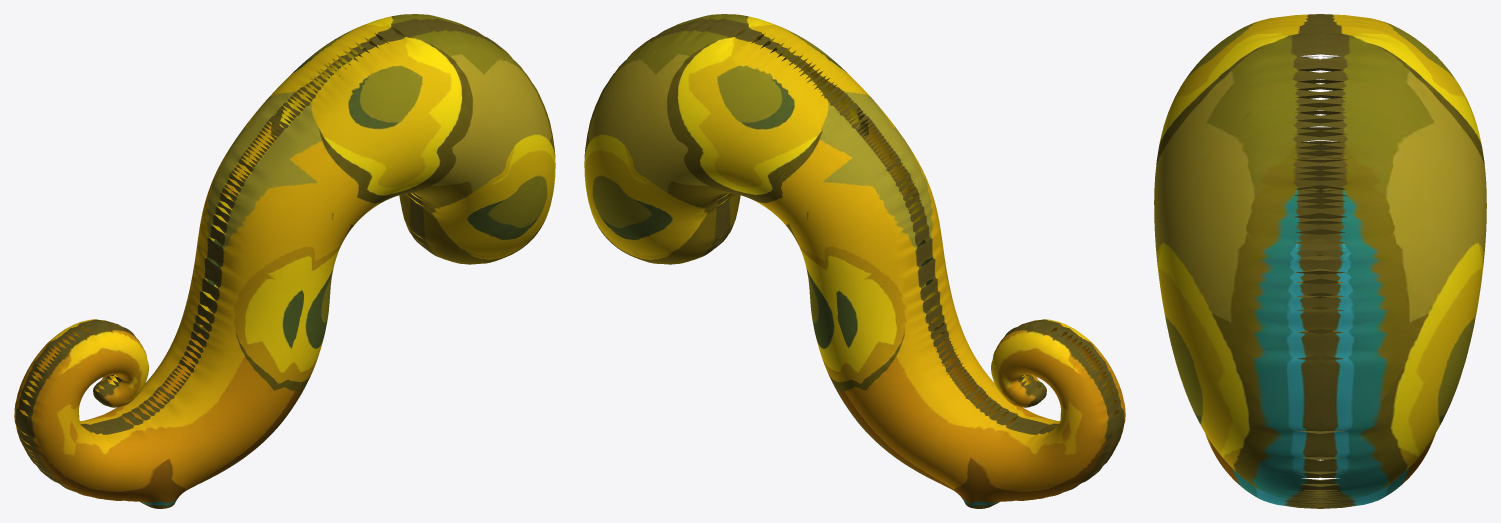
The model's file is curled_root.glb.
3 renders of one model, left to right at view 1: azimuth 30°, elevation 25°; view 2: azimuth 150°, elevation 25°; view 3: azimuth 270°, elevation 25°, orthographic. The views are drawn at different scales.
Visible parts, largest first — view 1: curled_root; view 2: curled_root; view 3: curled_root.
Boxes of the visible parts, x1,y1,x2,y2 form: curled_root: (14, 14, 555, 508); curled_root: (584, 14, 1125, 508); curled_root: (1154, 14, 1486, 508).
Bounding box in the file's own units: 0.9889 × 0.7262 × 0.3386.
Materials: 1 (1 with a texture image).
